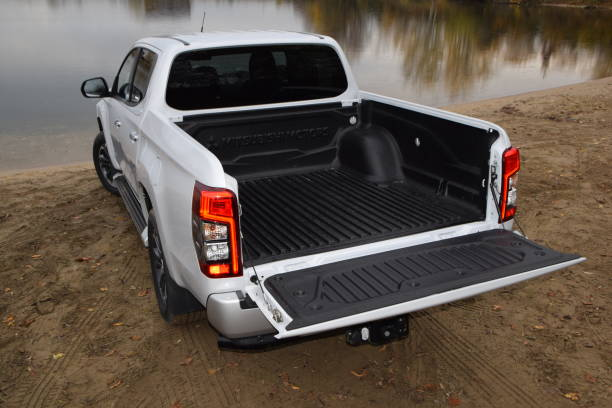Truck: (79, 10, 585, 353)
